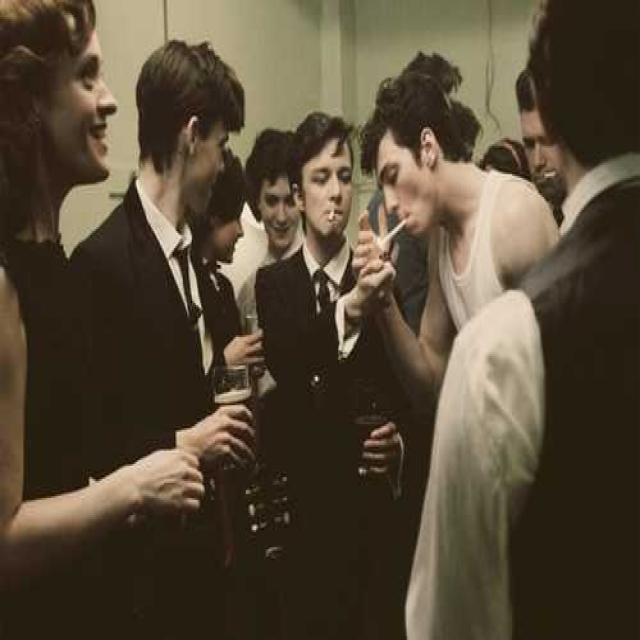Smooking: (375, 204, 415, 261), (325, 202, 337, 232)
